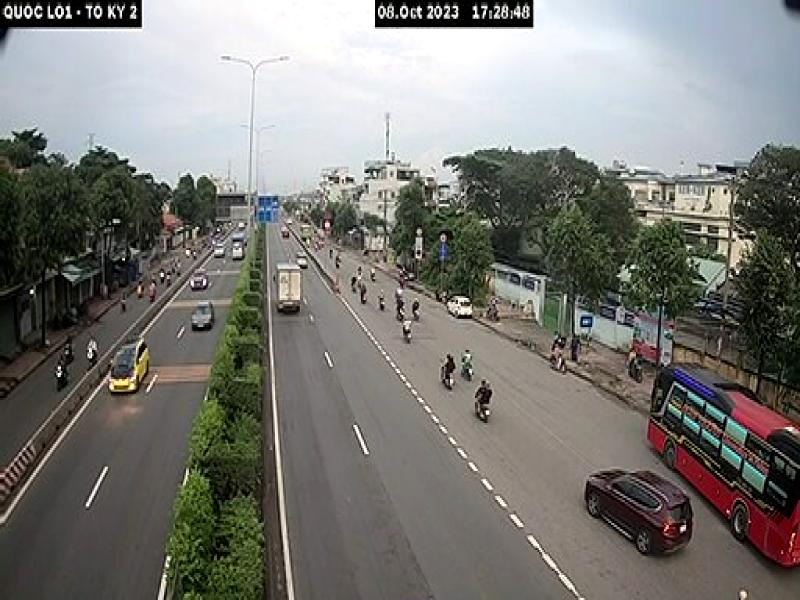bus: (645, 362, 800, 569)
car: (584, 466, 694, 560), (106, 336, 148, 395)
truck: (275, 263, 305, 314)
